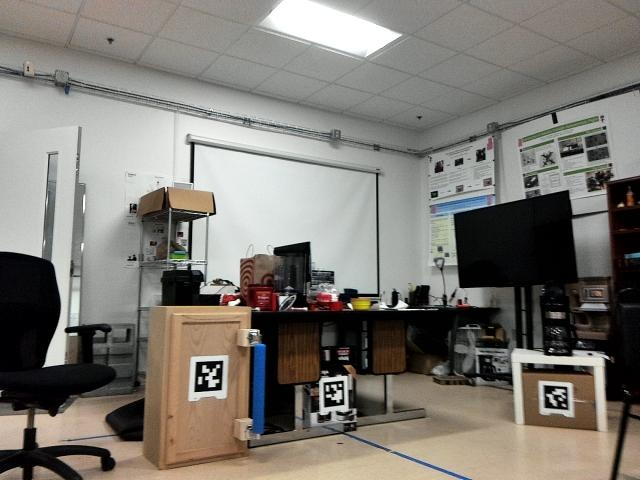noodle_handle: (251, 339, 267, 437)
